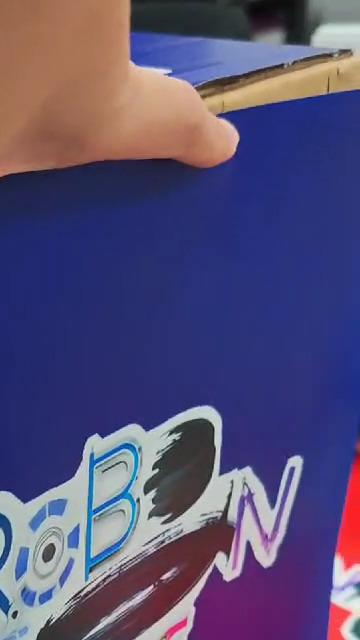B_R1: (0, 395, 313, 640)
